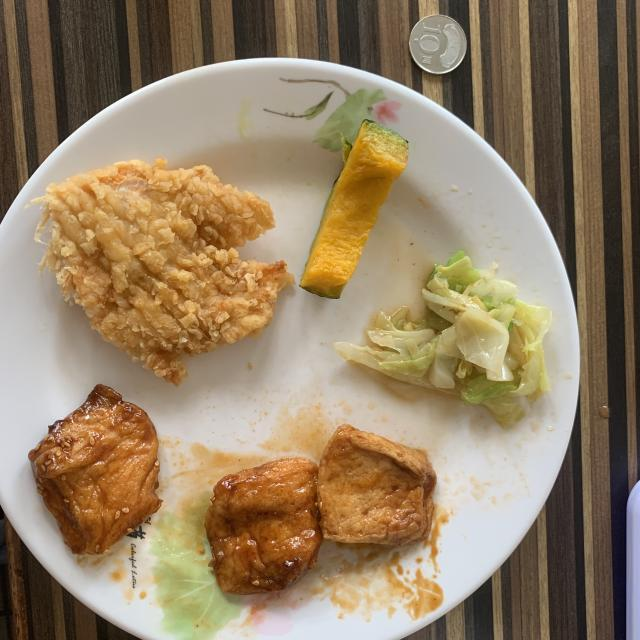cabbage: (335, 251, 551, 428)
coin: (410, 15, 466, 74)
creamy tofu: (205, 424, 436, 594), (29, 384, 161, 554)
fried chicken cutlet: (34, 159, 294, 385)
pumpkin: (300, 120, 409, 299)
